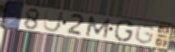2: (66, 13, 86, 38)
8: (22, 7, 41, 30)
G: (113, 19, 136, 43), (135, 23, 157, 46)
M: (85, 15, 113, 40)
U: (41, 9, 65, 33)
